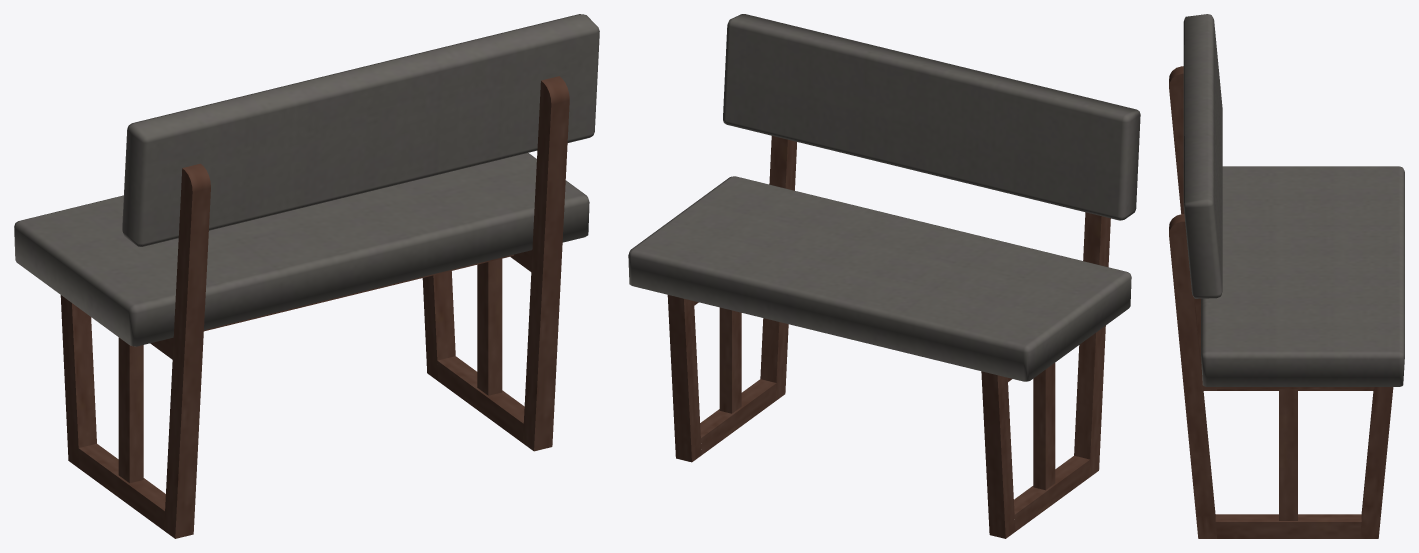
Rendered from ARC0810059.fbx.
3 views of the same model, side by side, from view 1: azimuth 30°, elevation 25°; view 2: azimuth 150°, elevation 25°; view 3: azimuth 270°, elevation 25° (orthographic). The views are drawn at different scales.
Visible parts, largest first — view 1: smARC0810059; view 2: smARC0810059; view 3: smARC0810059.
Part boxes in pixels (bbox=[...]): smARC0810059: bbox=[14, 14, 599, 538]; smARC0810059: bbox=[628, 14, 1140, 538]; smARC0810059: bbox=[1169, 14, 1404, 538].
Size of the model in its own units: 130 by 113 by 68.44.
Materials: 1 (1 with a texture image).
